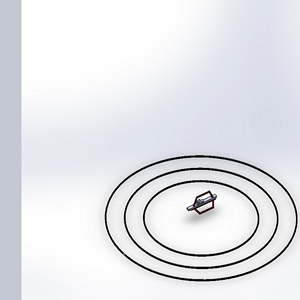circle: (100, 150, 299, 288)
submarine: (182, 187, 223, 223)
